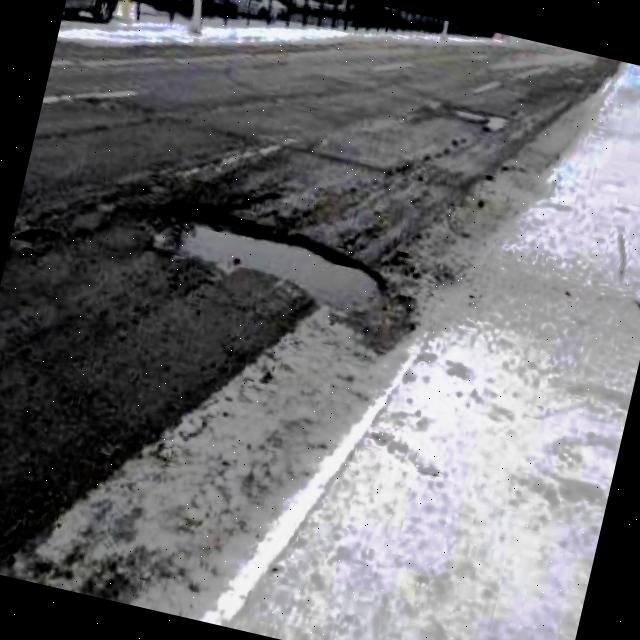pothole: (145, 191, 398, 330)
